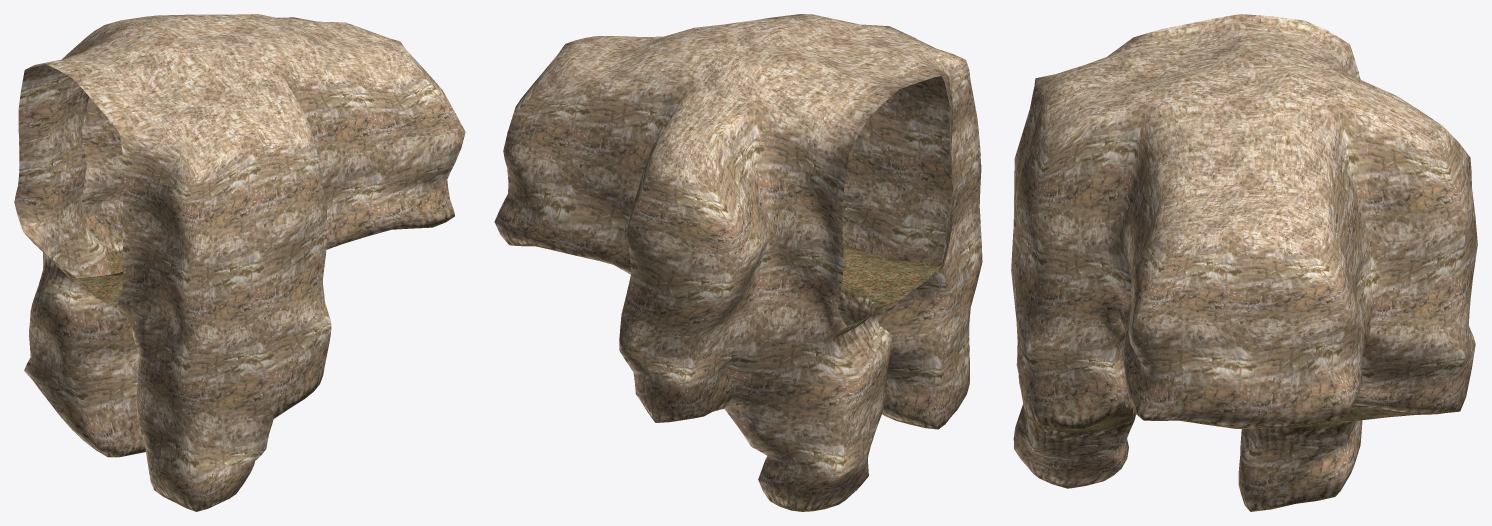
File: thm_all_cave_flatland_s02_r9_mesh_r9.fbx
3 renders of one model, left to right at view 1: azimuth 30°, elevation 25°; view 2: azimuth 150°, elevation 25°; view 3: azimuth 270°, elevation 25°, orthographic. The views are drawn at different scales.
Parts seen in each view (by area): view 1: mesh_node; view 2: mesh_node; view 3: mesh_node.
Boxes of the visible parts, x1,y1,x2,y2 form: mesh_node: [14, 14, 465, 511]; mesh_node: [494, 14, 982, 511]; mesh_node: [1011, 14, 1477, 511].
Bounding box in the file's own units: 41.15 × 45.08 × 40.79.
